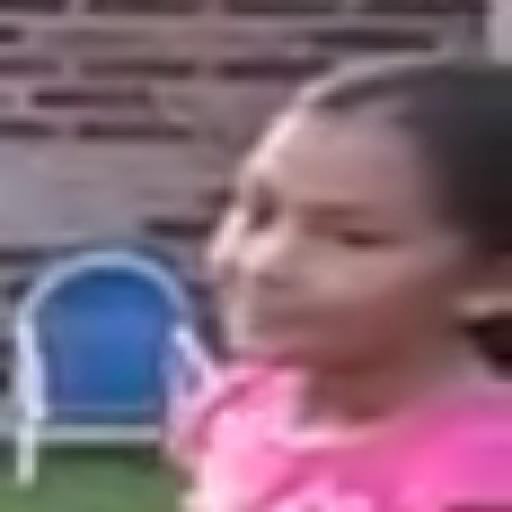Autism: (210, 32, 512, 496)
